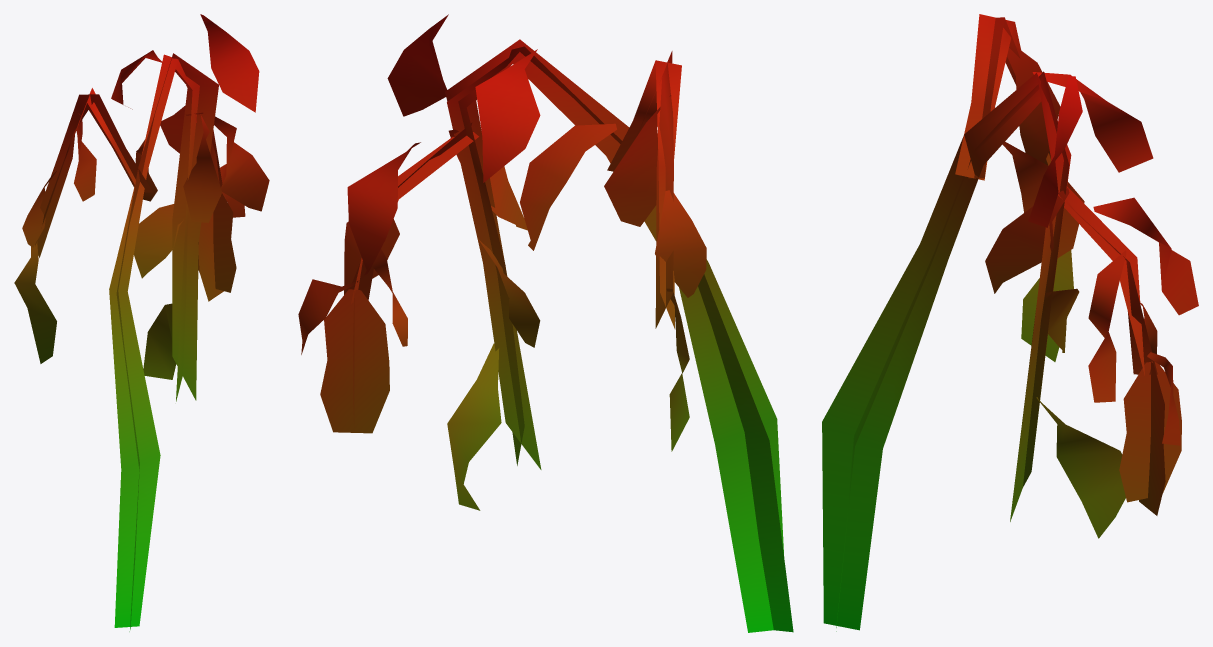
File: Var6_LOD1.fbx
3 renders of one model, left to right at view 1: azimuth 30°, elevation 25°; view 2: azimuth 150°, elevation 25°; view 3: azimuth 270°, elevation 25°, orthographic. The views are drawn at different scales.
Visible parts, largest first — view 1: _4fca_Var6_LOD1; view 2: _4fca_Var6_LOD1; view 3: _4fca_Var6_LOD1.
Boxes of the visible parts, x1,y1,x2,y2 form: _4fca_Var6_LOD1: (14, 14, 269, 631); _4fca_Var6_LOD1: (298, 14, 793, 632); _4fca_Var6_LOD1: (822, 14, 1198, 631).
Bounding box in the file's own units: 16.16 × 29.07 × 15.18.
